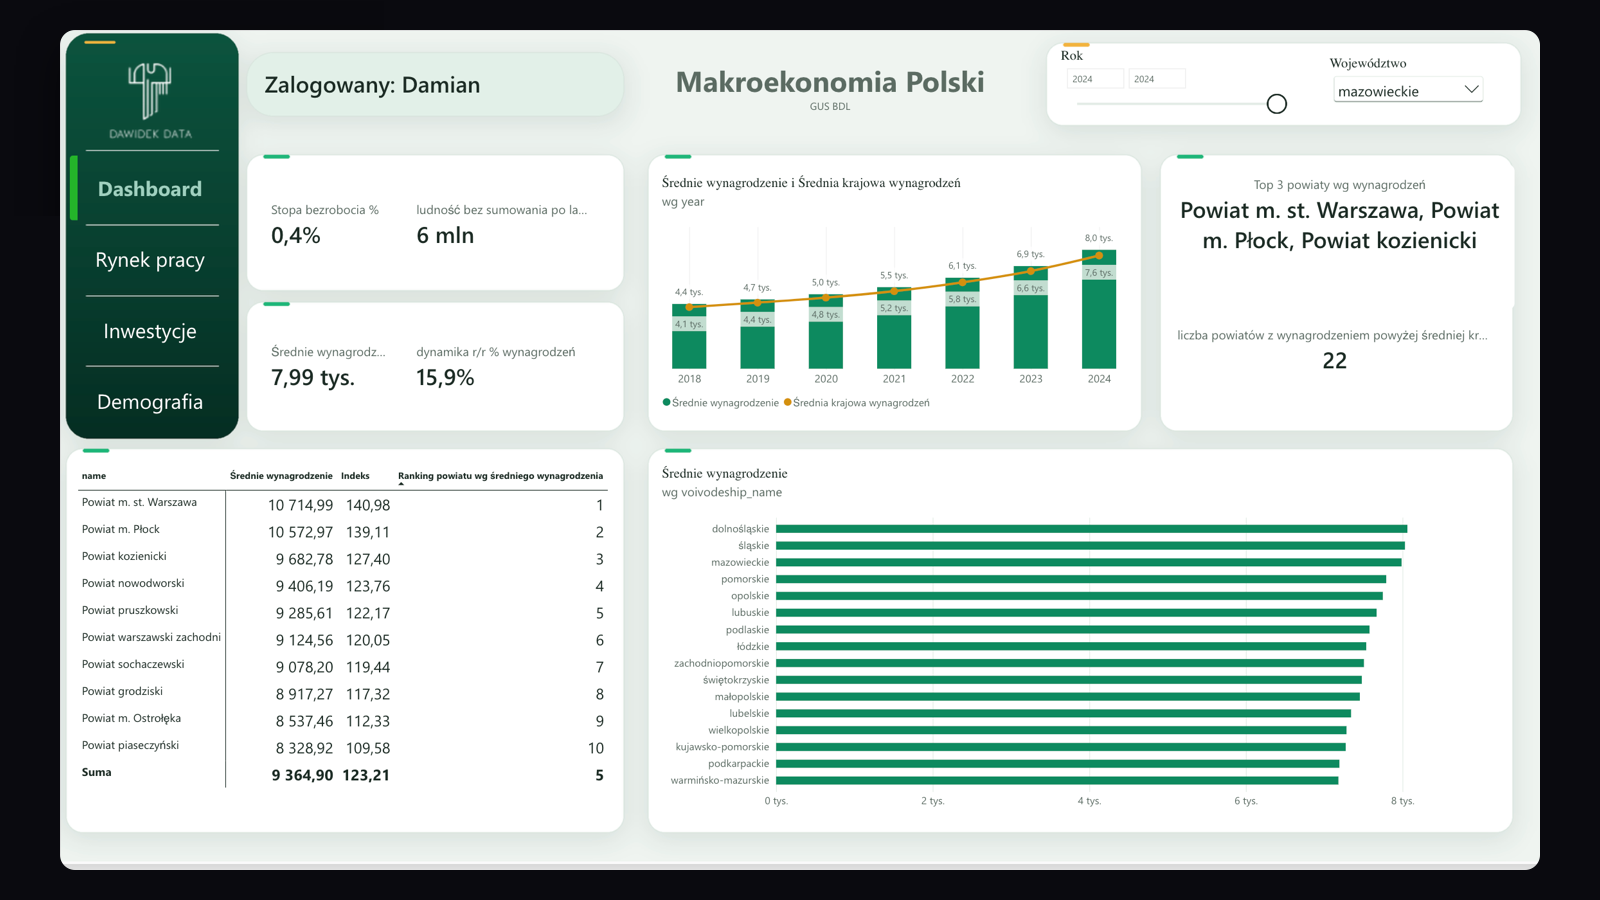

The dashboard page shown, as its layout file describes it:
{"tool":"powerbi","page":{"name":"Dashboard","canvas":[1920,1080],"ordinal":0},"visuals":[{"type":"cardVisual","fields":{"Data":["_Measures.Stopa bezrobocia %"]},"box":[257.2,173.7,187.2,157.6],"z":0},{"type":"cardVisual","fields":{"Data":["_Measures.dynamika r/r % wynagrodzeń"]},"box":[444.4,362.2,274.7,149.5],"z":1000},{"type":"cardVisual","fields":{"Data":["_Measures.Średnie wynagrodzenie"]},"box":[257.2,362.2,187.2,149.5],"z":2000},{"type":"cardVisual","fields":{"Data":["_Measures.ludność bez sumowania po latach"]},"box":[444.4,173.7,255.9,157.6],"z":3000},{"type":"slicer","title":"Rok","fields":{"Values":["public dim_year.year"]},"box":[1296.8,21.5,296.3,90.2],"z":4000},{"type":"slicer","title":"Województwo","fields":{"Values":["public dim_units.voivodeship_name","public dim_units.unit_type"]},"box":[1644.2,31,204.7,76.8],"z":5000},{"type":"textbox","box":[751.4,37.7,491.5,70],"z":6000},{"type":"lineStackedColumnComboChart","fields":{"Category":["public dim_year.year"],"Y":["_Measures.Średnie wynagrodzenie"],"Y2":["_Measures.Średnia krajowa wynagrodzeń"]},"box":[763.5,173.7,634.3,338],"z":7000},{"type":"cardVisual","fields":{"Data":["_Measures.Top 3 powiaty wg wynagrodzeń"]},"box":[1431.5,173.7,453.8,188.5],"z":8000},{"type":"cardVisual","fields":{"Data":["_Measures.liczba powiatów z wynagrodzeniem powyżej średniej krajowej"]},"box":[1431.5,367.6,441.7,138.7],"z":9000},{"type":"clusteredBarChart","fields":{"Category":["public dim_units.voivodeship_name"],"Y":["_Measures.Średnie wynagrodzenie"]},"box":[763.5,549.4,1109.6,478.1],"z":10000},{"type":"pivotTable","fields":{"Rows":["public dim_units.name"],"Values":["_Measures.Średnie wynagrodzenie","_Measures.Indeks","_Measures.Ranking powiatu wg średniego wynagrodzenia"]},"box":[4,549.4,724.5,478.1],"z":11000},{"type":"cardVisual","fields":{"Data":["_Measures.Zalogowany"]},"box":[247.8,37.7,471.3,60.6],"z":12000},{"type":"pageNavigator","box":[12.1,161.6,208.7,360.9],"z":13000}]}

Visuals, with their boxes in screenshot pixels (x1, y1, x2, y2), scaled from the page's 1920x1080 canvas onto the 1600x900 screenshot:
cardVisual - _Measures.Stopa bezrobocia %: left=214, top=145, right=370, bottom=276
cardVisual - _Measures.dynamika r/r % wynagrodzeń: left=370, top=302, right=599, bottom=426
cardVisual - _Measures.Średnie wynagrodzenie: left=214, top=302, right=370, bottom=426
cardVisual - _Measures.ludność bez sumowania po latach: left=370, top=145, right=584, bottom=276
"Rok" slicer: left=1081, top=18, right=1328, bottom=93
"Województwo" slicer: left=1370, top=26, right=1541, bottom=90
textbox: left=626, top=31, right=1036, bottom=90
lineStackedColumnComboChart - public dim_year.year x _Measures.Średnie wynagrodzenie: left=636, top=145, right=1165, bottom=426
cardVisual - _Measures.Top 3 powiaty wg wynagrodzeń: left=1193, top=145, right=1571, bottom=302
cardVisual - _Measures.liczba powiatów z wynagrodzeniem powyżej średniej krajowej: left=1193, top=306, right=1561, bottom=422
clusteredBarChart - public dim_units.voivodeship_name x _Measures.Średnie wynagrodzenie: left=636, top=458, right=1561, bottom=856
pivotTable - public dim_units.name x _Measures.Średnie wynagrodzenie: left=3, top=458, right=607, bottom=856
cardVisual - _Measures.Zalogowany: left=207, top=31, right=599, bottom=82
pageNavigator: left=10, top=135, right=184, bottom=435
